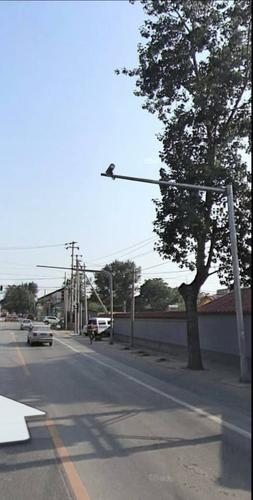camera: (105, 163, 116, 178), (158, 169, 168, 180)
car: (28, 323, 54, 348), (44, 315, 59, 327), (21, 319, 32, 329)
